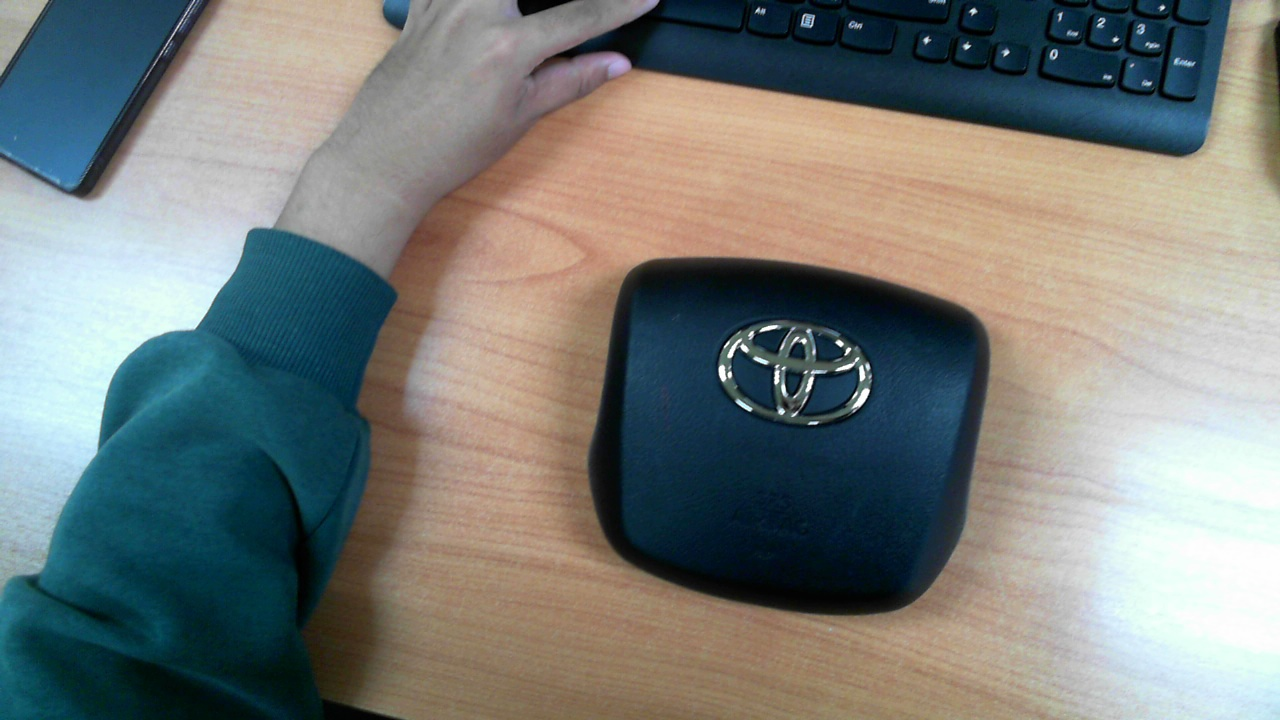Airbag: (586, 257, 991, 617)
Toyota: (717, 319, 872, 426)
